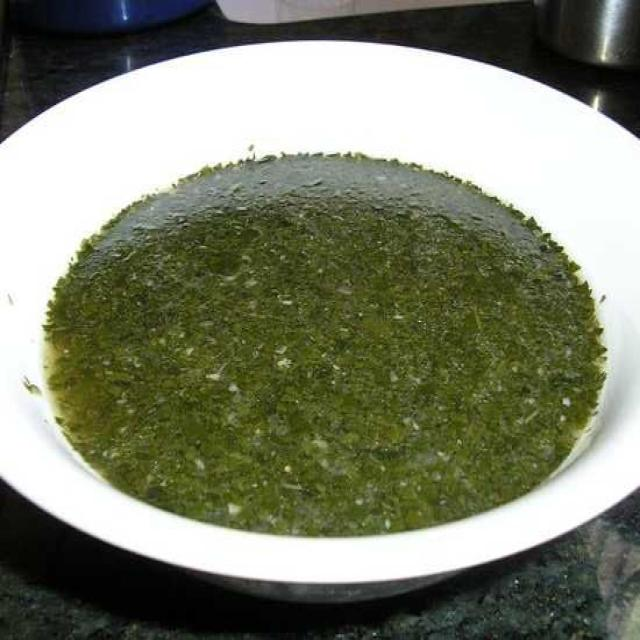Molokhya: (8, 91, 640, 574)
